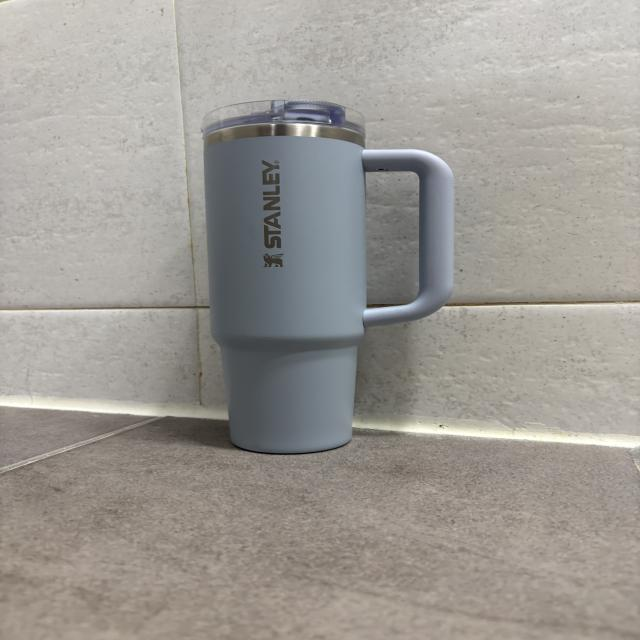waterbottle: (202, 98, 453, 454)
